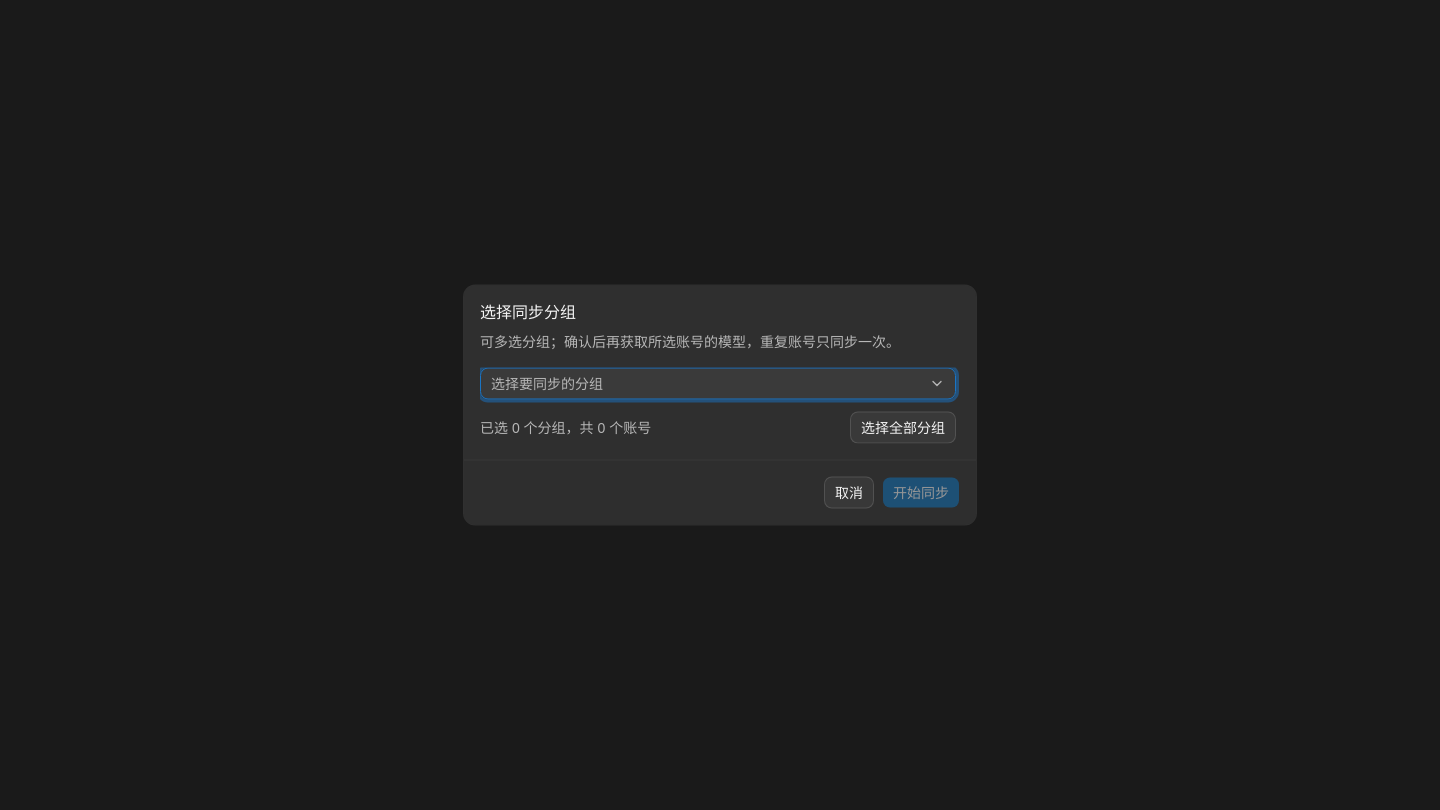
全局屏蔽保存期间禁止同步和重复排除
Click the button "选择全部分组". click: (903, 428)
box: [850,412,956,444]
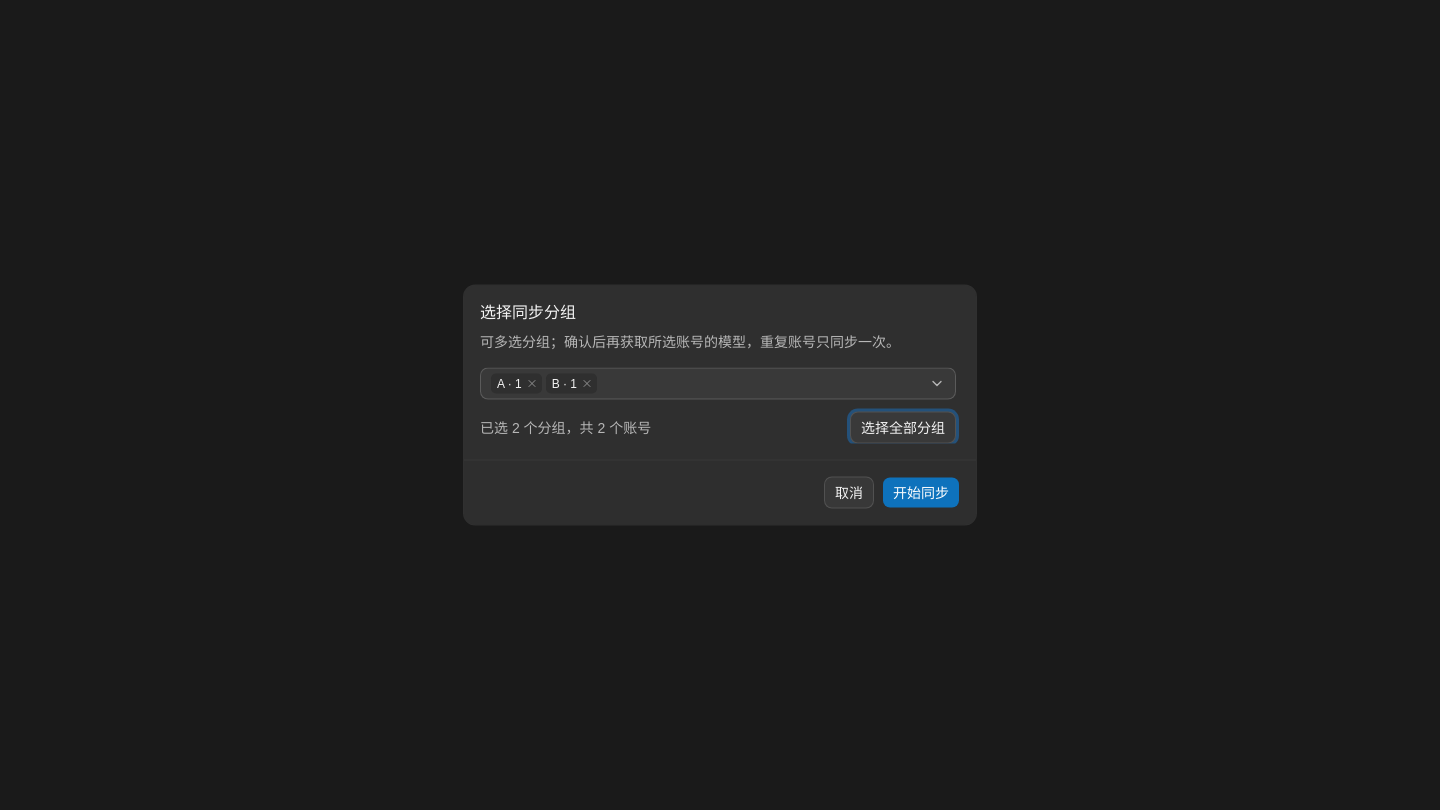
Click the button "开始同步". click: (921, 492)
box: [882,476,960,508]
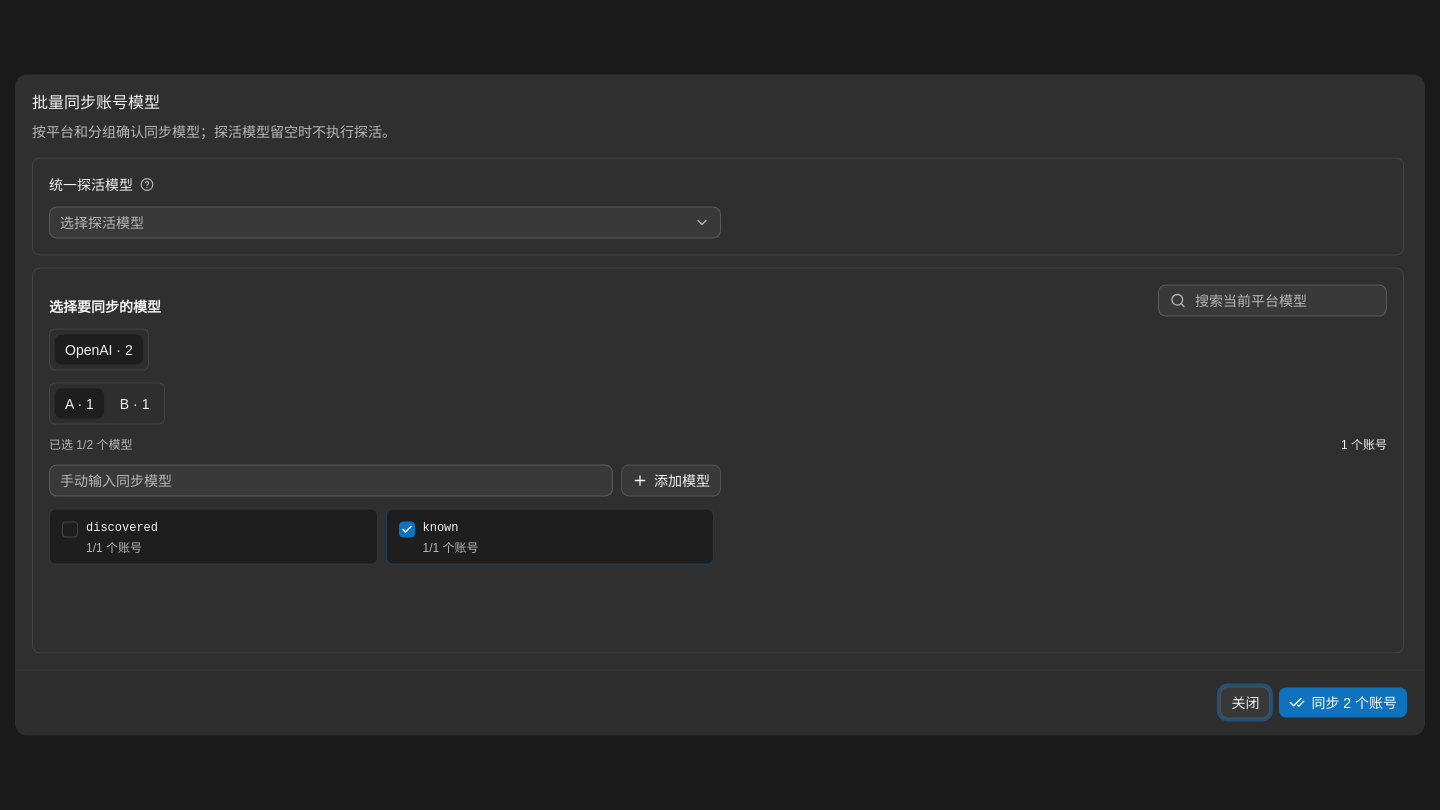
Result: the field labelled "手动输入同步模型" is shown at [49,464,613,496]
Right-click the element named "模型 discovered" at (213, 536), box [49,508,378,564]
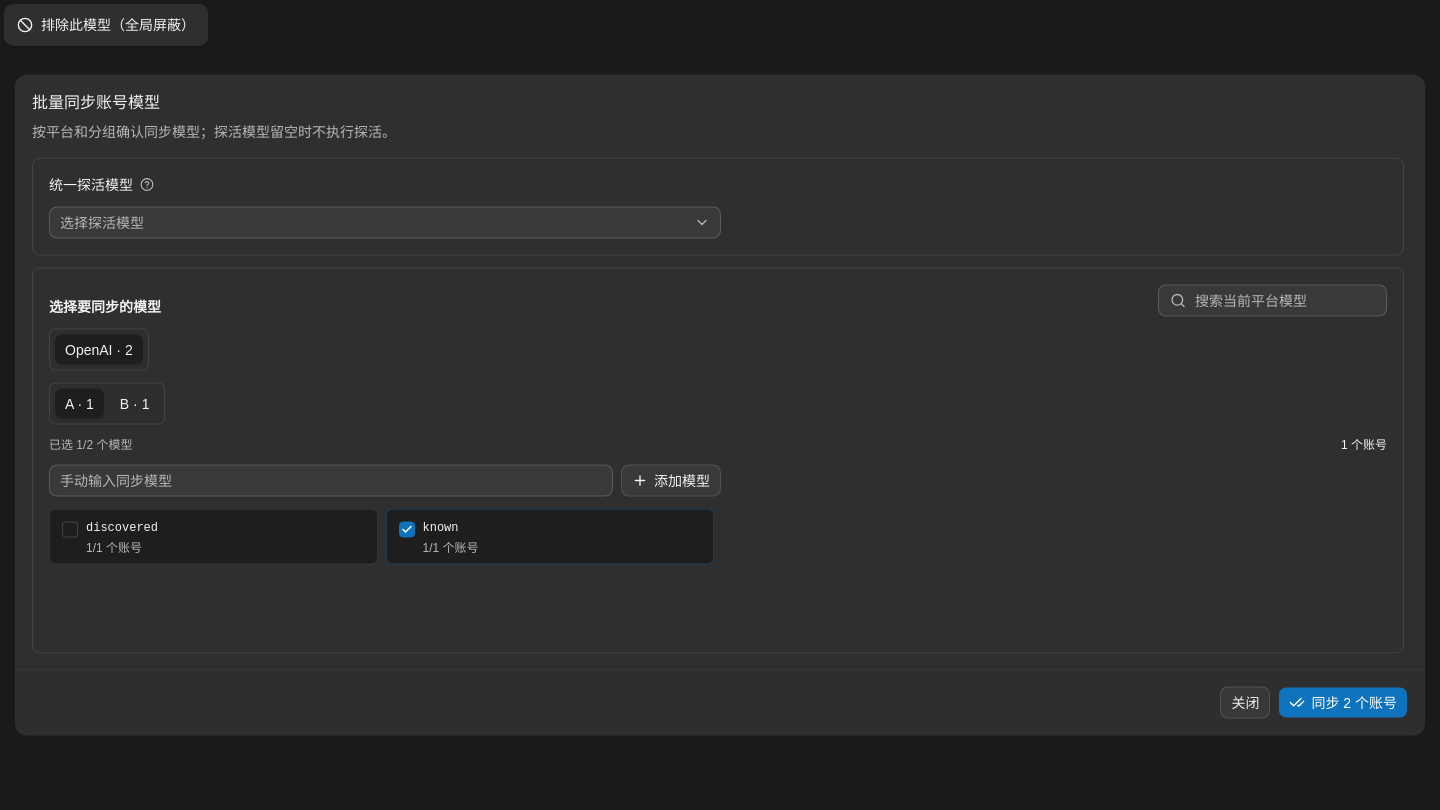
Click the menu item "排除此模型（全局屏蔽）". click: (106, 25)
box: [17,17,195,33]
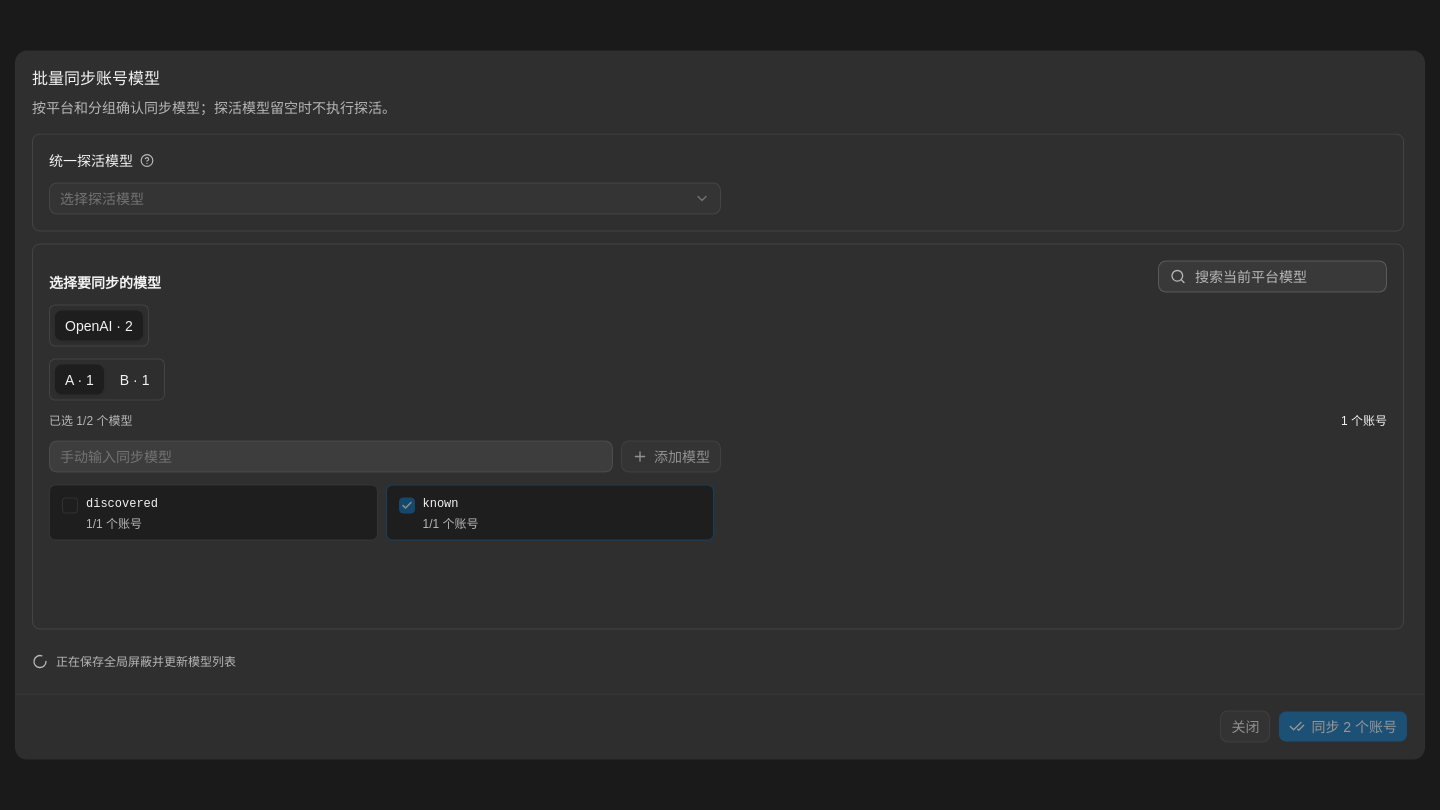
Result: the button "同步 2 个账号" is disabled
Click the button "同步 2 个账号". click: (1343, 726)
box: [1278,710,1408,742]
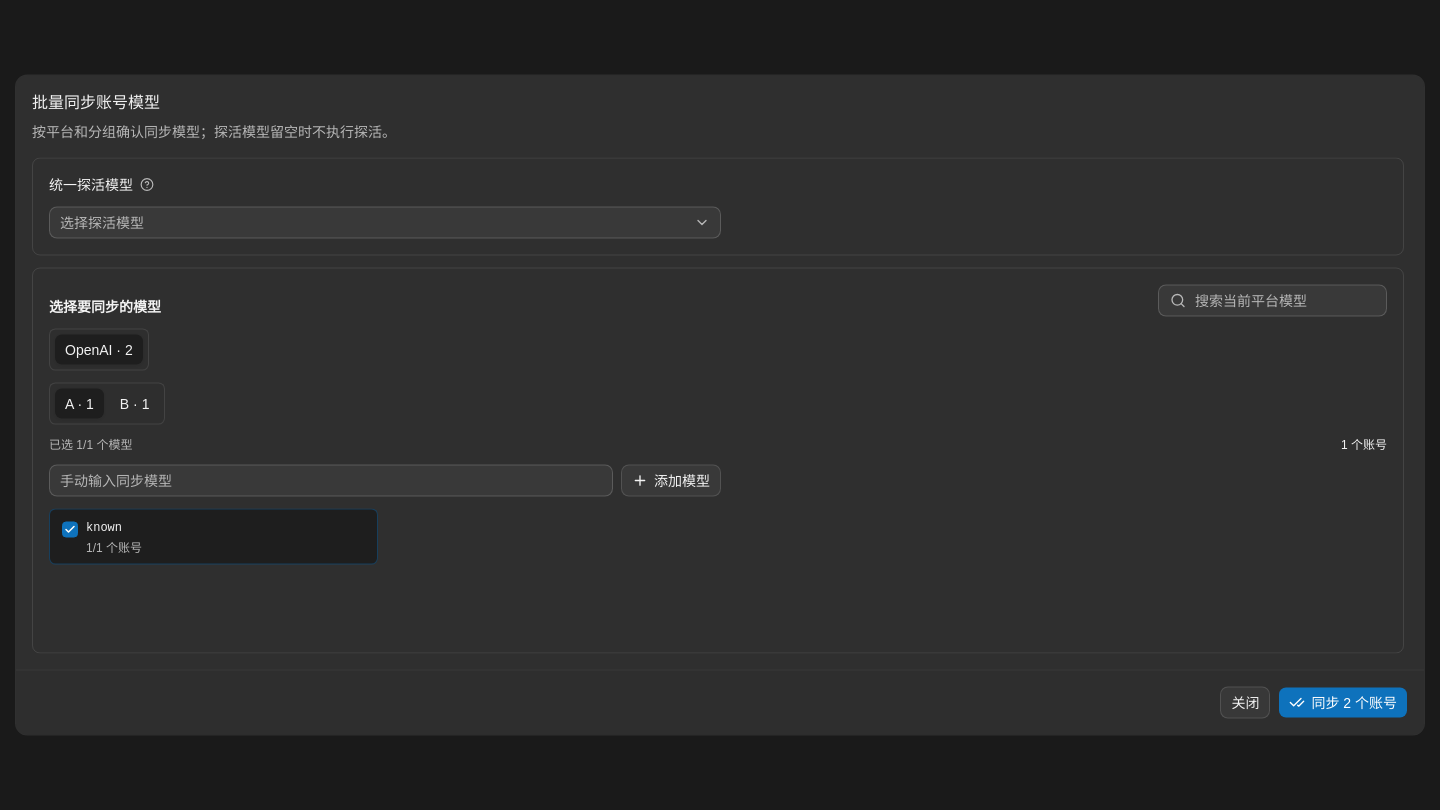
Result: the button "同步 2 个账号" is enabled at [1278,686,1408,718]
